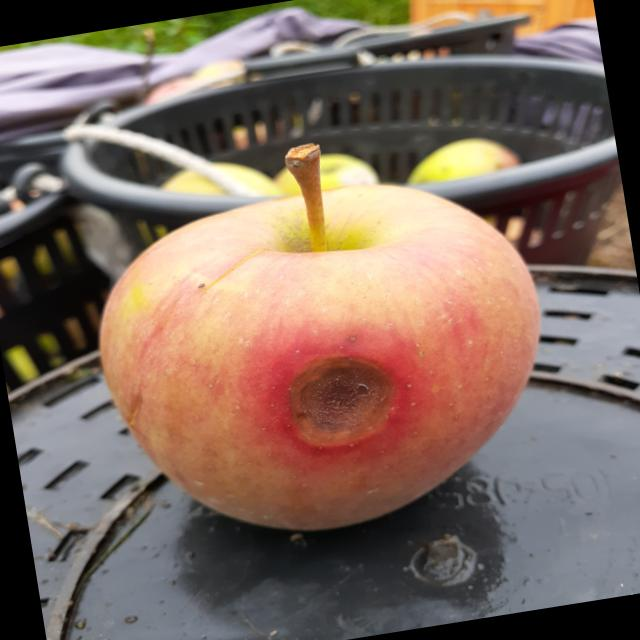rotten: (63, 145, 584, 577)
